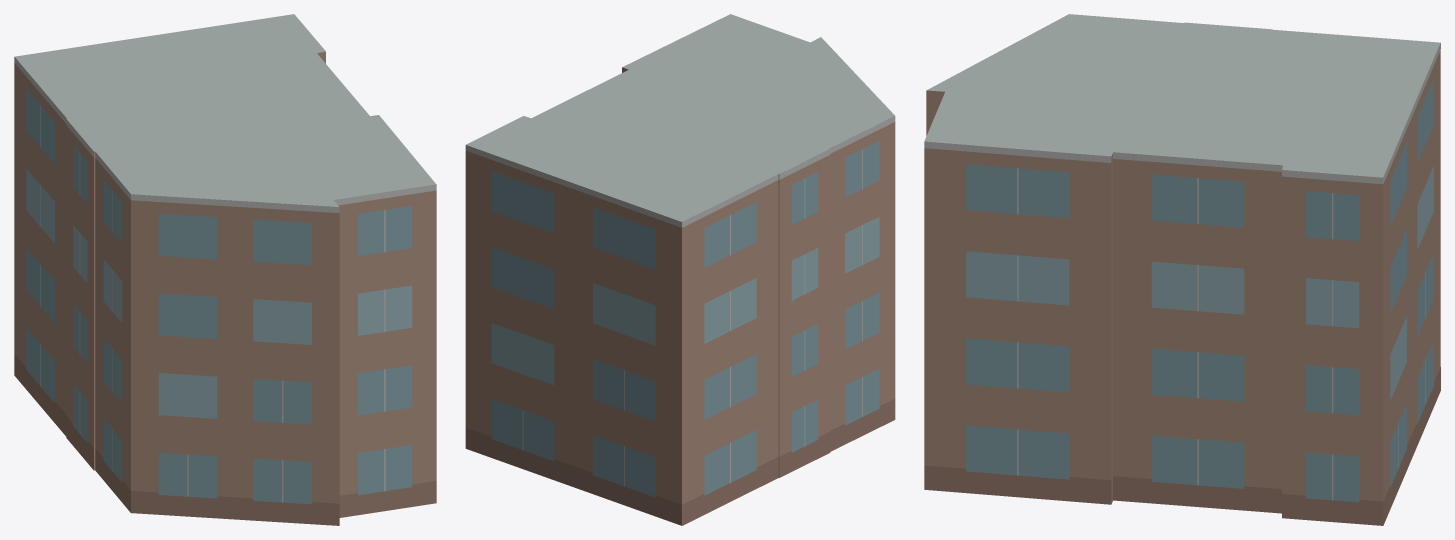
Rendered from survey-upis-32666120.glb.
3 views of the same model, side by side, from view 1: azimuth 30°, elevation 25°; view 2: azimuth 150°, elevation 25°; view 3: azimuth 270°, elevation 25° (orthographic). The views are drawn at different scales.
Visible parts, largest first — view 1: survey-upis-32666120.tmp; view 2: survey-upis-32666120.tmp; view 3: survey-upis-32666120.tmp.
Boxes of the visible parts, x1,y1,x2,y2 form: survey-upis-32666120.tmp: [14, 14, 436, 525]; survey-upis-32666120.tmp: [465, 14, 895, 525]; survey-upis-32666120.tmp: [924, 14, 1440, 525].
Bounding box in the file's own units: 12.97 × 12.85 × 17.29.
